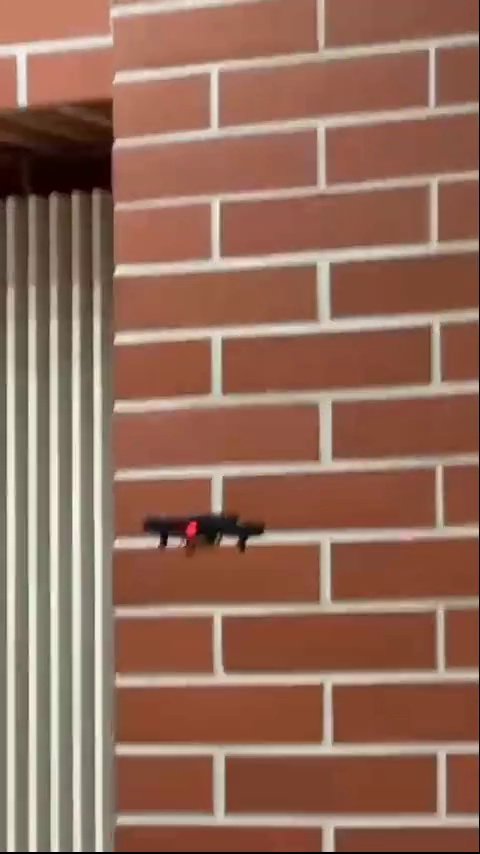drone: (132, 511, 282, 554)
